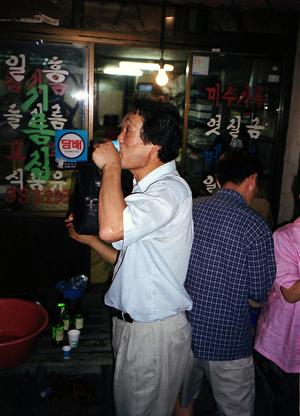person: (66, 93, 196, 416)
